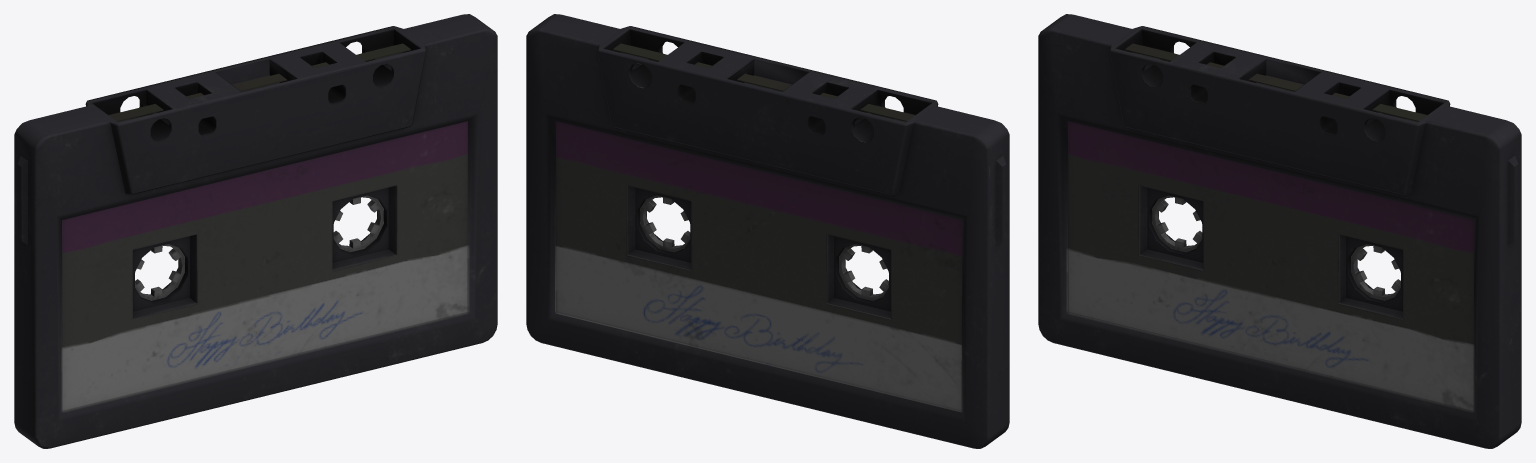
The model's file is Cassette_Tape_01.fbx.
3 renders of one model, left to right at view 1: azimuth 30°, elevation 25°; view 2: azimuth 150°, elevation 25°; view 3: azimuth 330°, elevation 25°, orthographic.
Parts seen in each view (by area): view 1: Cassette_Tape; view 2: Cassette_Tape; view 3: Cassette_Tape.
Part boxes in pixels (x1,y1,x2,y2): Cassette_Tape: [14, 14, 497, 448]; Cassette_Tape: [526, 14, 1009, 448]; Cassette_Tape: [1038, 14, 1521, 448].
Bounding box in the file's own units: 11.09 × 7.04 × 1.33.
1 material, 1 textured.
